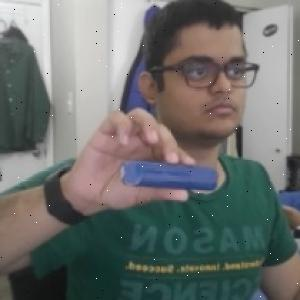Diamond-E-Ciggirate: (118, 158, 222, 193)
